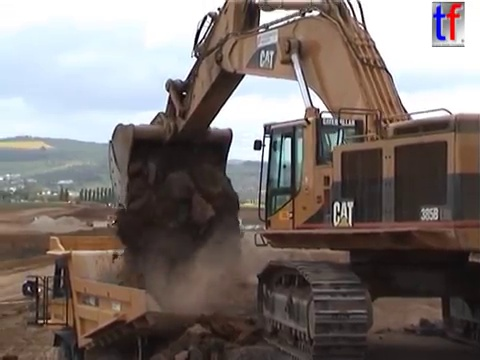excavator: (105, 1, 480, 360), (105, 207, 147, 234)
truck: (20, 232, 311, 360)
